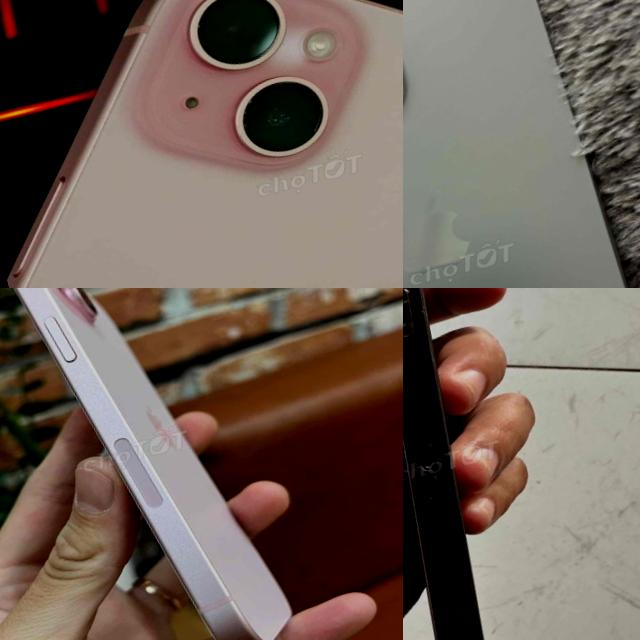gen_12_13: (0, 288, 318, 640)
gen_14: (403, 288, 557, 640)
gen_15: (0, 0, 403, 288), (403, 0, 640, 288)
